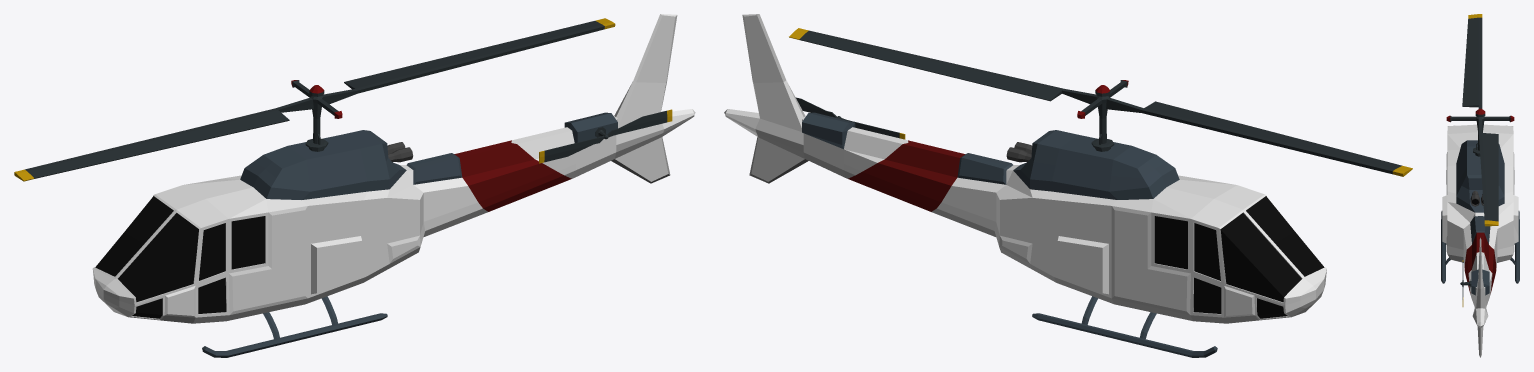
The model's file is HelicopterV2.glb.
3 views of the same model, side by side, from view 1: azimuth 30°, elevation 25°; view 2: azimuth 150°, elevation 25°; view 3: azimuth 270°, elevation 25° (orthographic). The views are drawn at different scales.
Visible parts, largest first — view 1: HelicopterV2, HelicopterV2_Rotor, HelicopterV2_TailRotor; view 2: HelicopterV2, HelicopterV2_Rotor, HelicopterV2_TailRotor; view 3: HelicopterV2, HelicopterV2_Rotor, HelicopterV2_TailRotor.
Boxes of the visible parts, <box> form: HelicopterV2: <box>92,14,695,357</box>; HelicopterV2_Rotor: <box>14,18,615,181</box>; HelicopterV2_TailRotor: <box>539,109,672,163</box>; HelicopterV2: <box>724,14,1326,357</box>; HelicopterV2_Rotor: <box>789,28,1412,176</box>; HelicopterV2_TailRotor: <box>795,97,905,139</box>; HelicopterV2: <box>1441,124,1519,357</box>; HelicopterV2_Rotor: <box>1446,14,1514,226</box>; HelicopterV2_TailRotor: <box>1460,260,1471,306</box>.
Size of the model in its own units: 1.42 by 0.4471 by 0.1995.
1 material, 1 textured.
